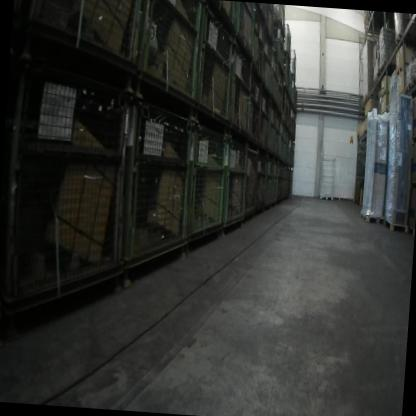pallet: (380, 212, 409, 235), (359, 210, 383, 227), (362, 92, 377, 105), (396, 31, 408, 47), (380, 64, 388, 78), (404, 83, 412, 94), (374, 74, 380, 85), (412, 71, 416, 87), (365, 26, 372, 35), (364, 18, 368, 27), (365, 22, 368, 30)
stillage: (6, 69, 137, 309), (111, 105, 196, 297), (137, 0, 207, 116), (184, 123, 233, 264), (64, 0, 142, 77), (197, 3, 238, 122), (219, 139, 249, 238), (230, 44, 254, 142), (236, 150, 262, 235), (246, 65, 265, 153), (249, 155, 269, 220), (235, 2, 255, 60), (258, 163, 280, 215), (252, 6, 266, 78), (259, 38, 275, 97), (258, 88, 272, 154), (270, 26, 287, 69), (267, 104, 280, 156), (269, 57, 280, 110), (276, 72, 285, 119), (273, 5, 288, 31), (265, 5, 275, 39)
